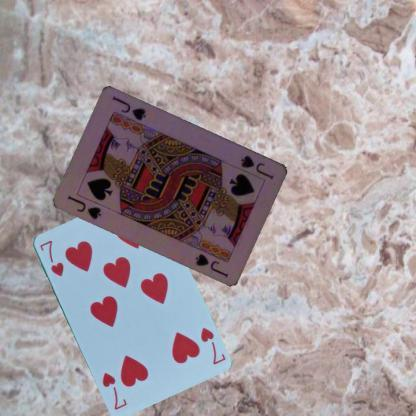7h: (197, 324, 227, 366), (36, 237, 65, 278)
Js: (64, 192, 104, 221), (238, 152, 276, 181)
